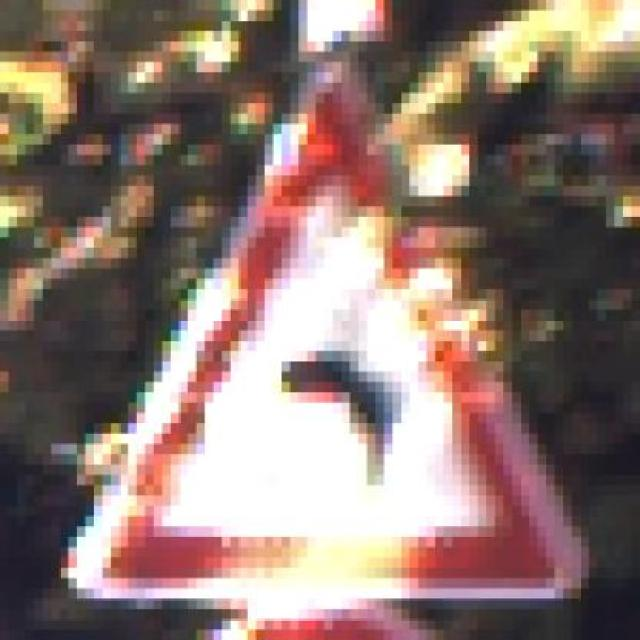Dangerous Left Curve Ahead: (59, 42, 598, 609)
